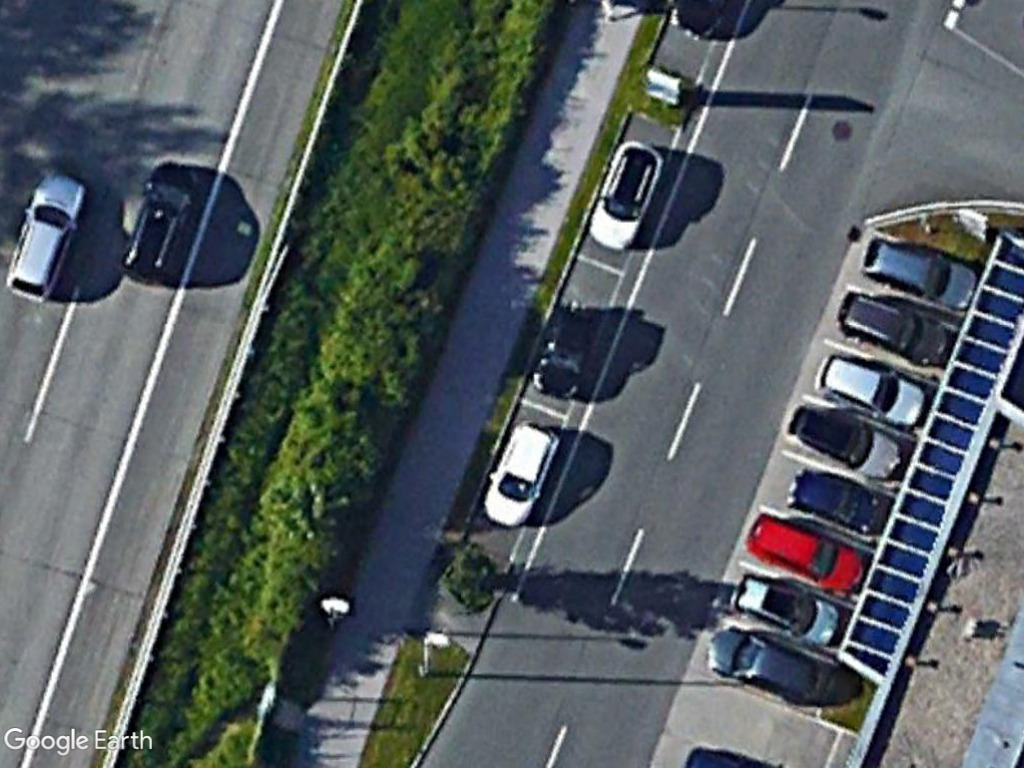car: (698, 623, 839, 715), (2, 166, 90, 305), (115, 157, 204, 286), (742, 508, 869, 598), (782, 398, 905, 484), (810, 347, 931, 433), (858, 232, 983, 315), (835, 284, 953, 370), (584, 135, 667, 254), (480, 414, 562, 532), (726, 569, 844, 645), (782, 464, 893, 535)
